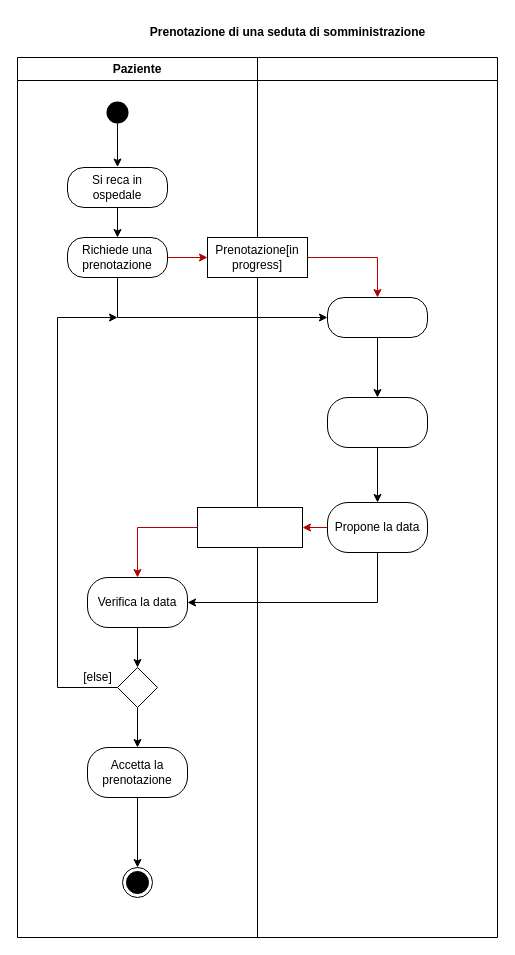
Image size: 515x955. Some labels were removed from this diagram. The shapes that lost their labels are listed below. From the top down, each one's box as (x1, y1, x2, y2) in pixels, then its label:
(326, 296, 428, 338): Riceve la rischiesta
(326, 396, 428, 448): Effettua una nuova prenotazione
(256, 56, 498, 938): Dottore
(196, 506, 302, 548): Prenotazione [completed]
